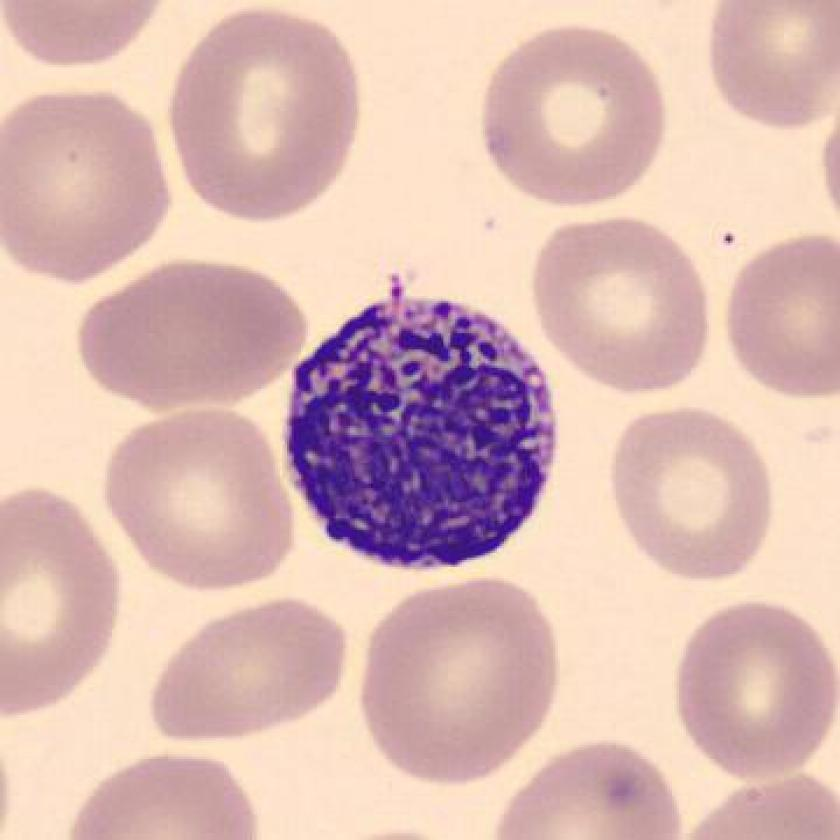basophil: (279, 281, 566, 580)
